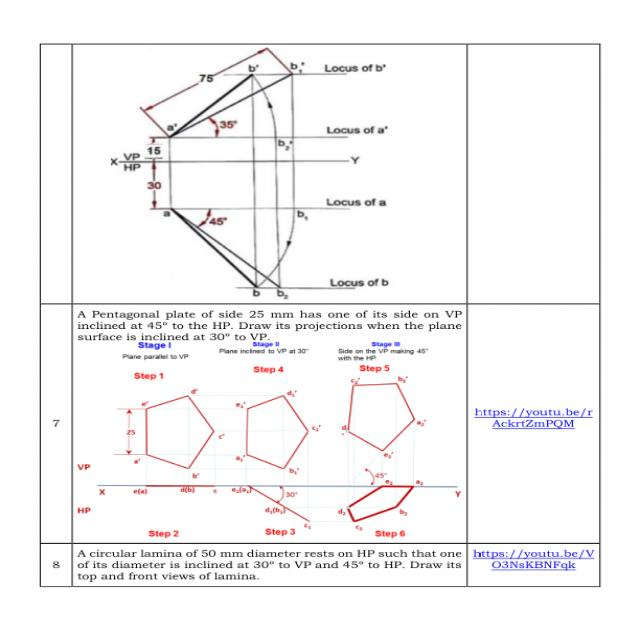Drawings: (101, 46, 397, 300), (109, 384, 228, 480), (233, 386, 326, 477), (340, 374, 430, 463), (344, 483, 424, 528), (228, 483, 319, 522), (143, 483, 217, 494)
